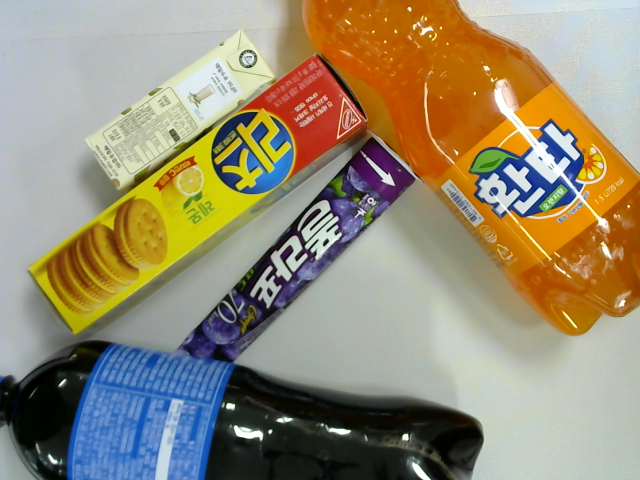99.89_Soymilk: (80, 28, 287, 198)
Hwanta_Orange_1.5L: (295, 1, 640, 337)
Pepsi_Cola_1.5L: (1, 340, 491, 479)
Polapo_Grape: (160, 128, 417, 391)
Ritz_Remon_96g: (25, 53, 375, 341)
